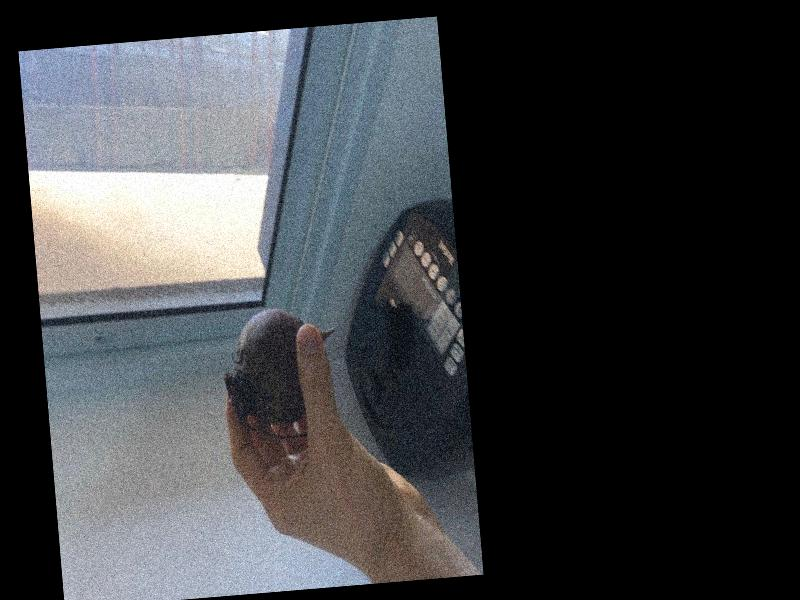Beet: (219, 304, 342, 441)
